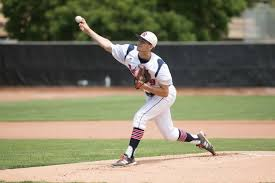baseball: (74, 15, 83, 23)
baseball player: (76, 16, 217, 167)
